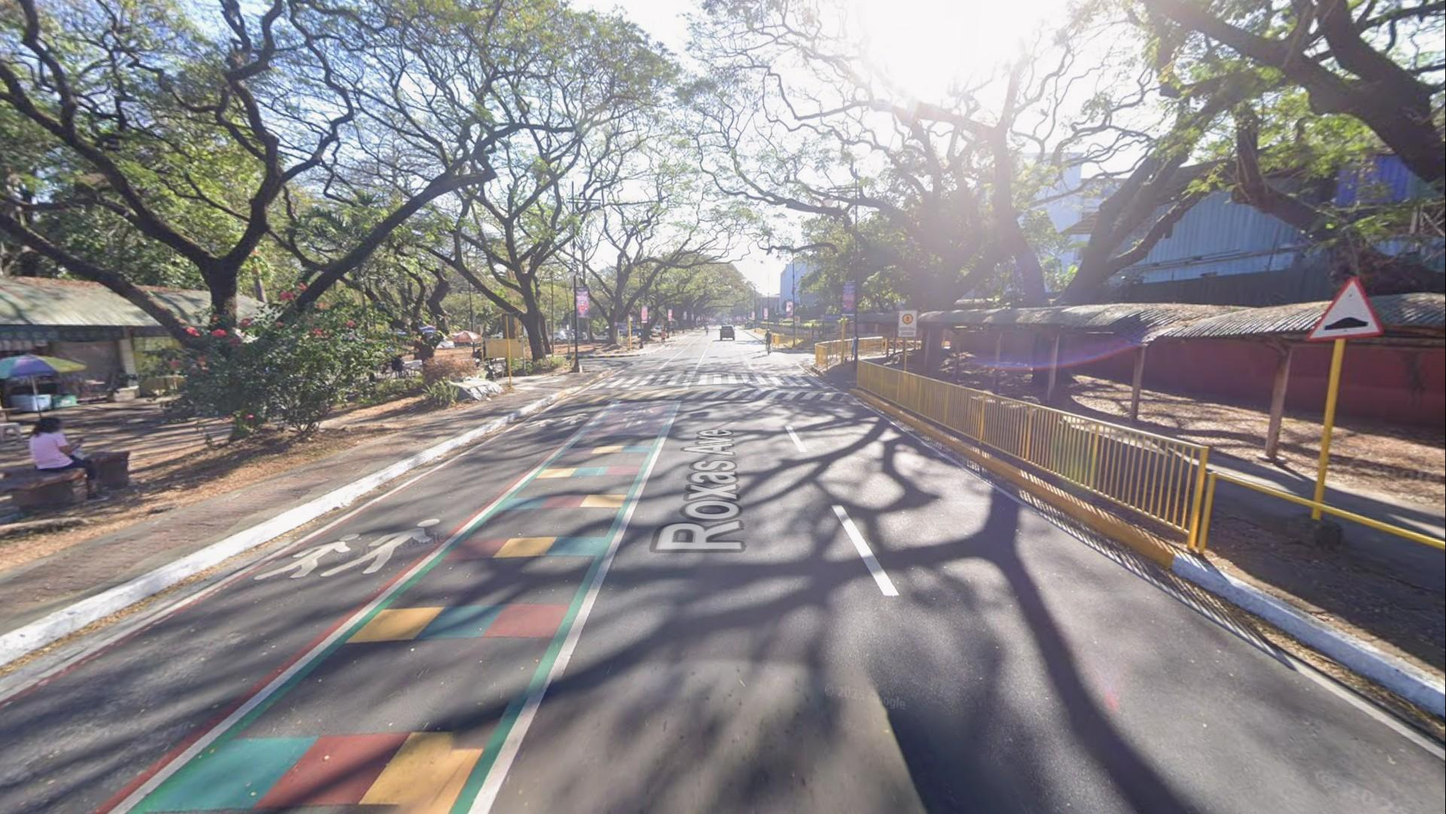cyclist: (763, 328, 773, 356)
pedestrian: (29, 414, 100, 502), (661, 329, 666, 346), (705, 325, 709, 336)
